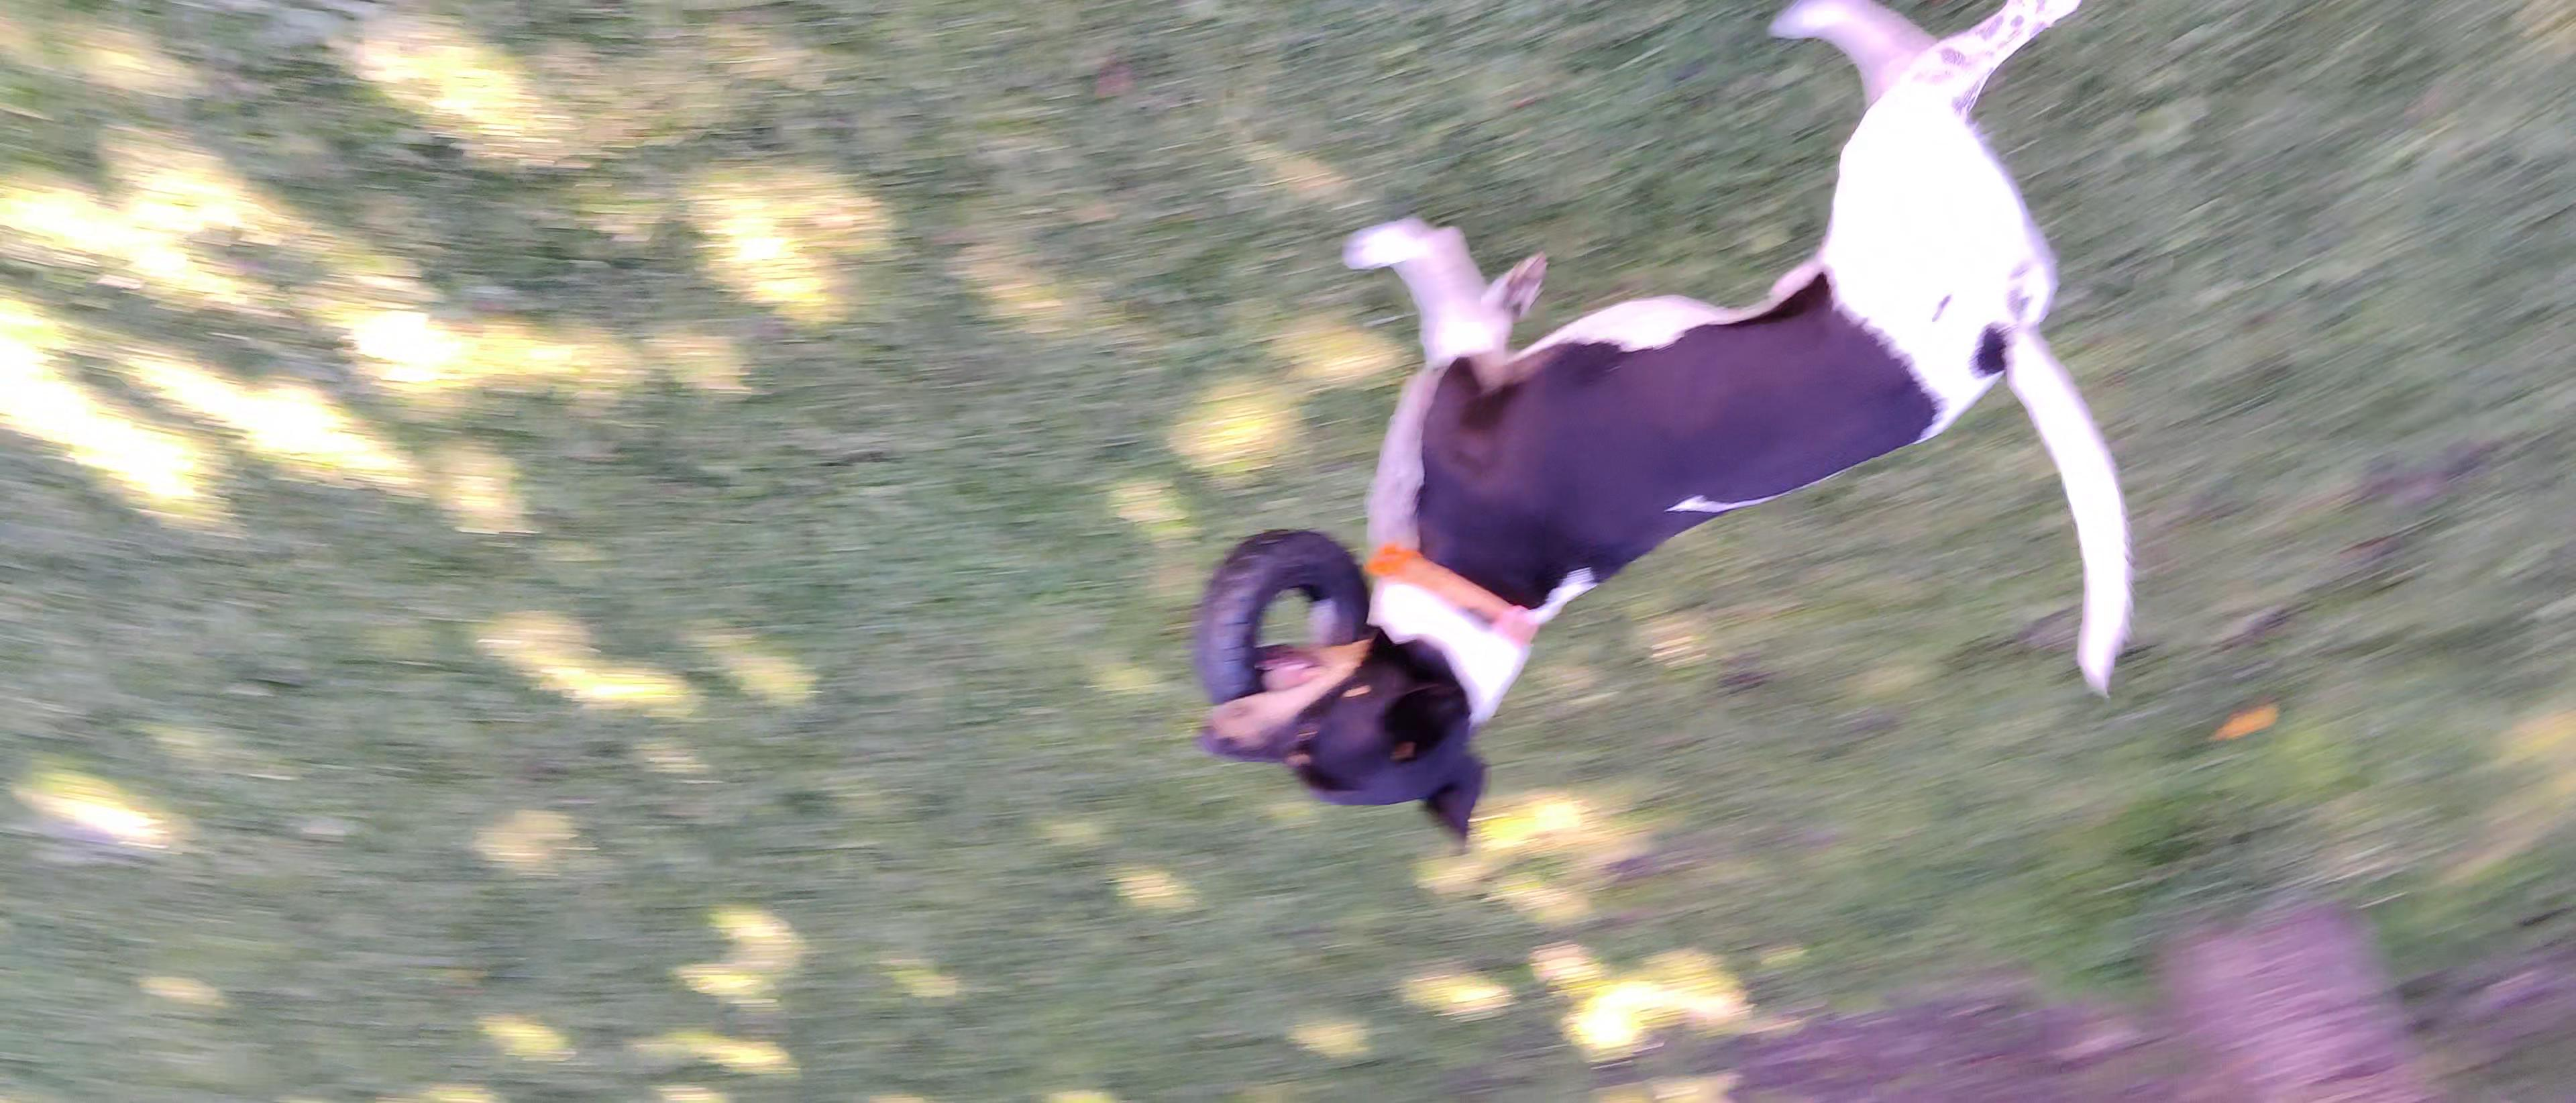Dog: (1165, 0, 2155, 856)
